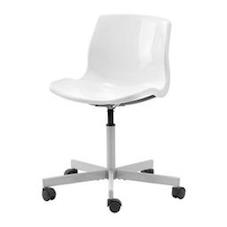chair: (32, 2, 191, 225)
